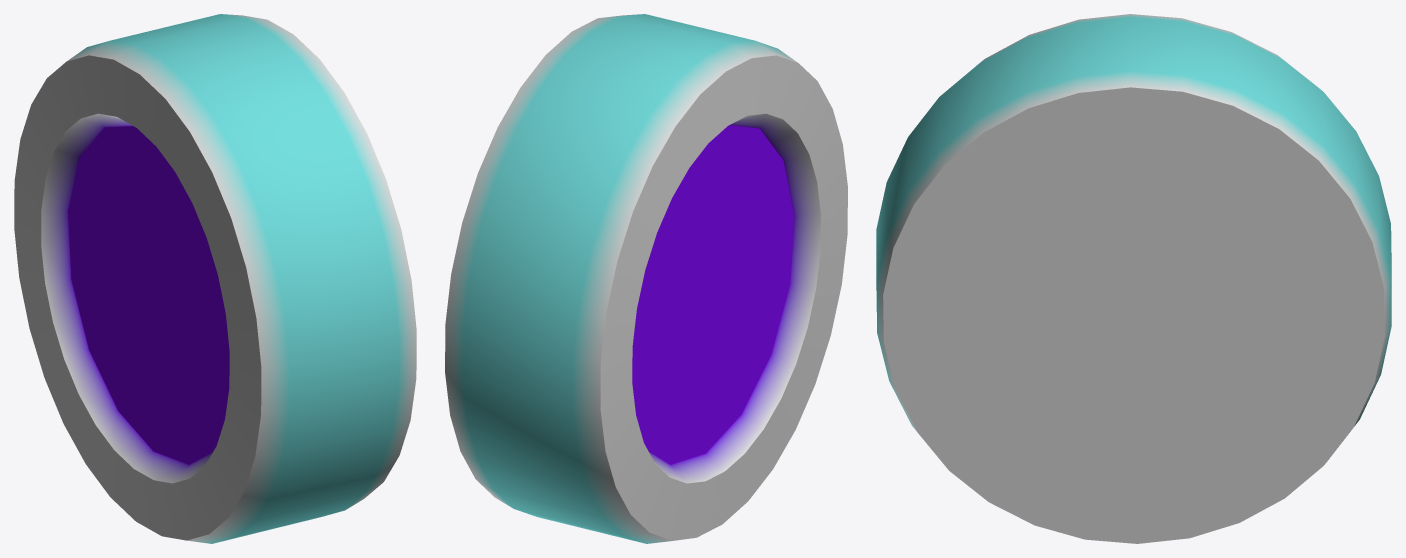
File: car_sedan_wheel.fbx
3 renders of one model, left to right at view 1: azimuth 30°, elevation 25°; view 2: azimuth 150°, elevation 25°; view 3: azimuth 270°, elevation 25°, orthographic.
Parts seen in each view (by area): view 1: car_sedan_wheel; view 2: car_sedan_wheel; view 3: car_sedan_wheel.
Part boxes in pixels (x1=…): car_sedan_wheel: x1=14, y1=14, x2=416, y2=543; car_sedan_wheel: x1=445, y1=14, x2=847, y2=543; car_sedan_wheel: x1=876, y1=14, x2=1391, y2=543.
Bounding box in the file's own units: 24.1 × 68.69 × 68.41.
